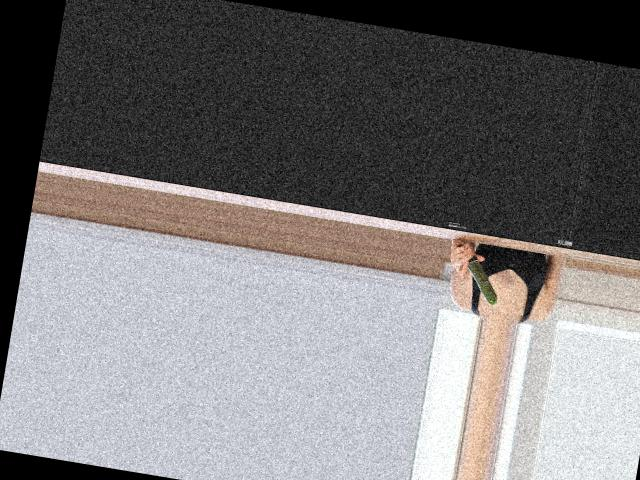cucumber: (448, 242, 505, 306)
